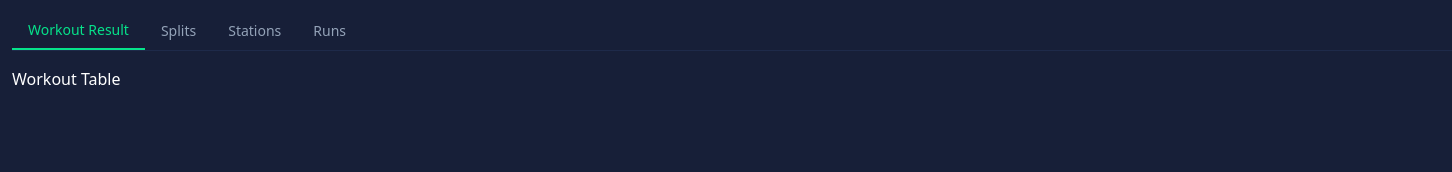
Test: ResultTabs › switches to splits content when Splits tab is clicked
Click the button "Splits" at [179, 31], box x1=145 y1=12 x2=212 y2=50
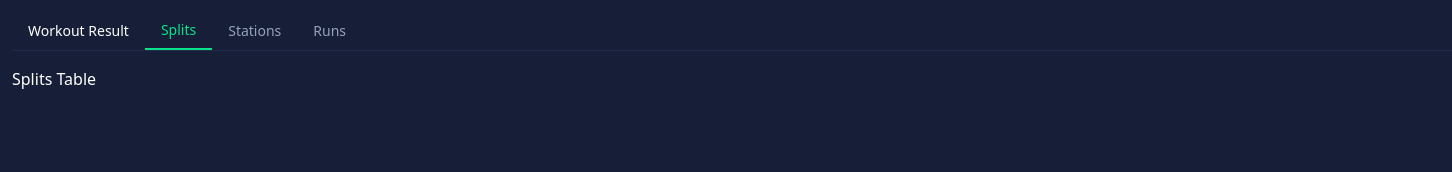
Now the text "Splits Table" is shown, box x1=12 y1=68 x2=96 y2=90
Now the text "Workout Table" is gone
